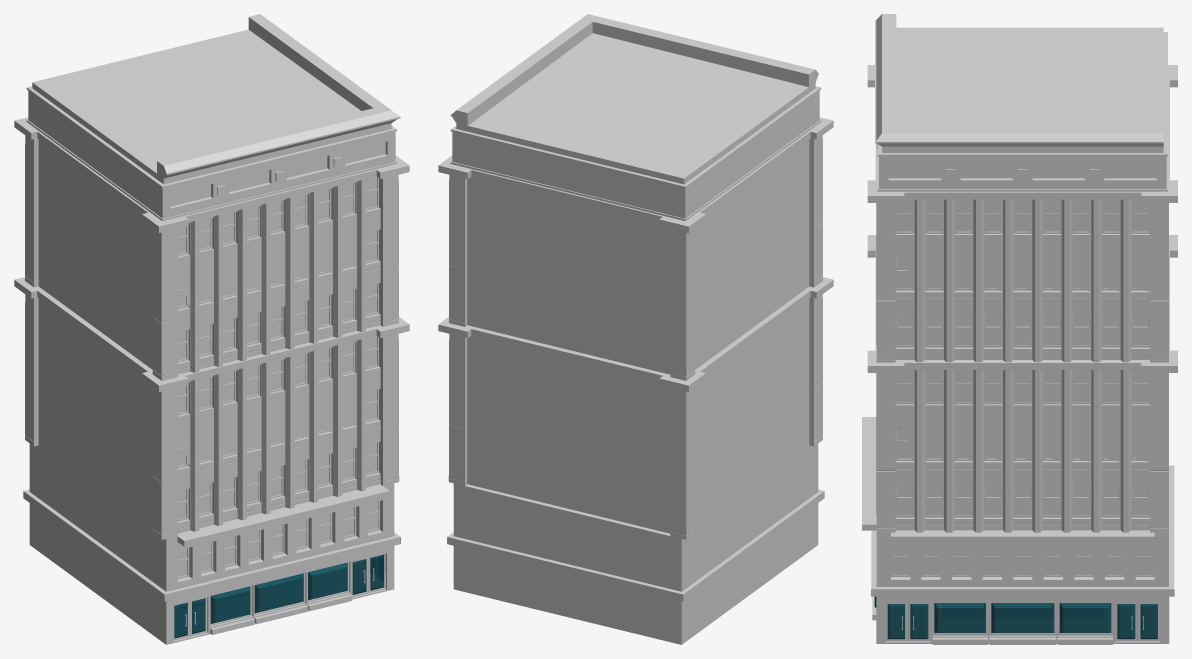
The model's file is building_office_corner_01_medium.fbx.
The picture shows the model from 3 angles, left to right: view 1: azimuth 30°, elevation 25°; view 2: azimuth 150°, elevation 25°; view 3: azimuth 270°, elevation 25°; orthographic projection. The views are drawn at different scales.
Visible parts, largest first — view 1: building_office_corner_01_medium, building_office_corner_01_floor_medium_glass; view 2: building_office_corner_01_medium; view 3: building_office_corner_01_medium, building_office_corner_01_floor_medium_glass.
Part boxes in pixels (<box>): building_office_corner_01_medium: <box>14,14,409,644</box>; building_office_corner_01_floor_medium_glass: <box>174,554,383,638</box>; building_office_corner_01_medium: <box>438,14,833,644</box>; building_office_corner_01_medium: <box>862,14,1177,644</box>; building_office_corner_01_floor_medium_glass: <box>874,596,1157,639</box>.
Bounding box in the file's own units: 1982 × 3600 × 2017.
